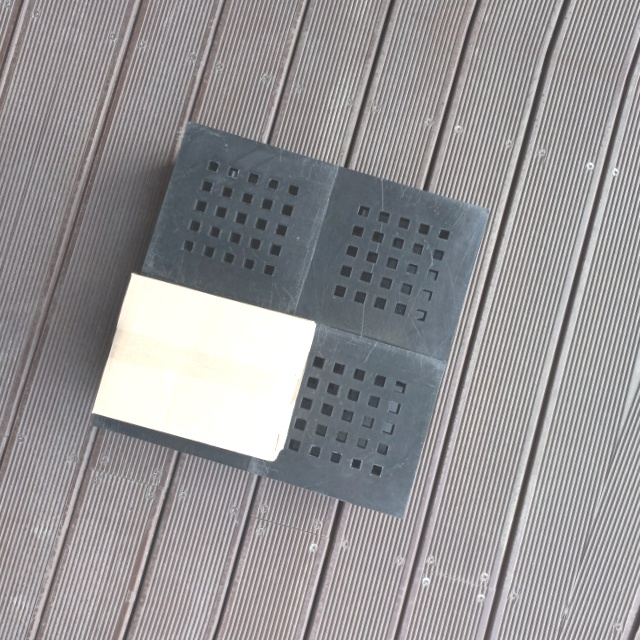box: (91, 268, 315, 466)
pallet: (81, 114, 497, 525)
